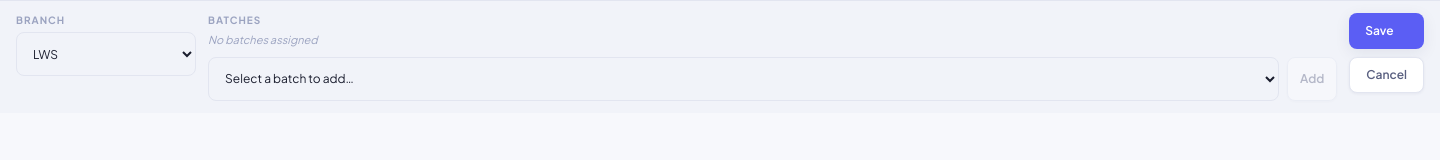
it: StudentRowEditor — batch chip mutations › adds a batch from the dropdown
This screenshot has width=1440, height=160.
Select "LWS_NDA_2Y_(25-27)" in the dropdown named "add batch" at (744, 78), box [208, 56, 1279, 100]
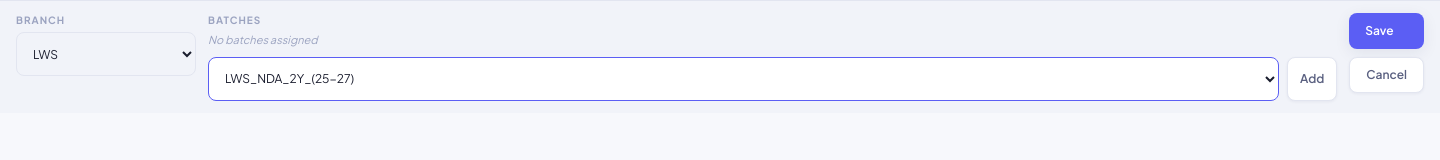
Click the button "Add" at (1312, 78), box [1287, 56, 1337, 100]
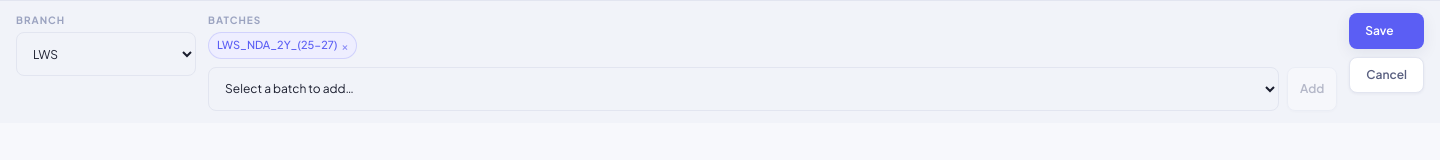
Check: the text "LWS_NDA_2Y_(25-27)" is shown, box [217, 38, 337, 51]
